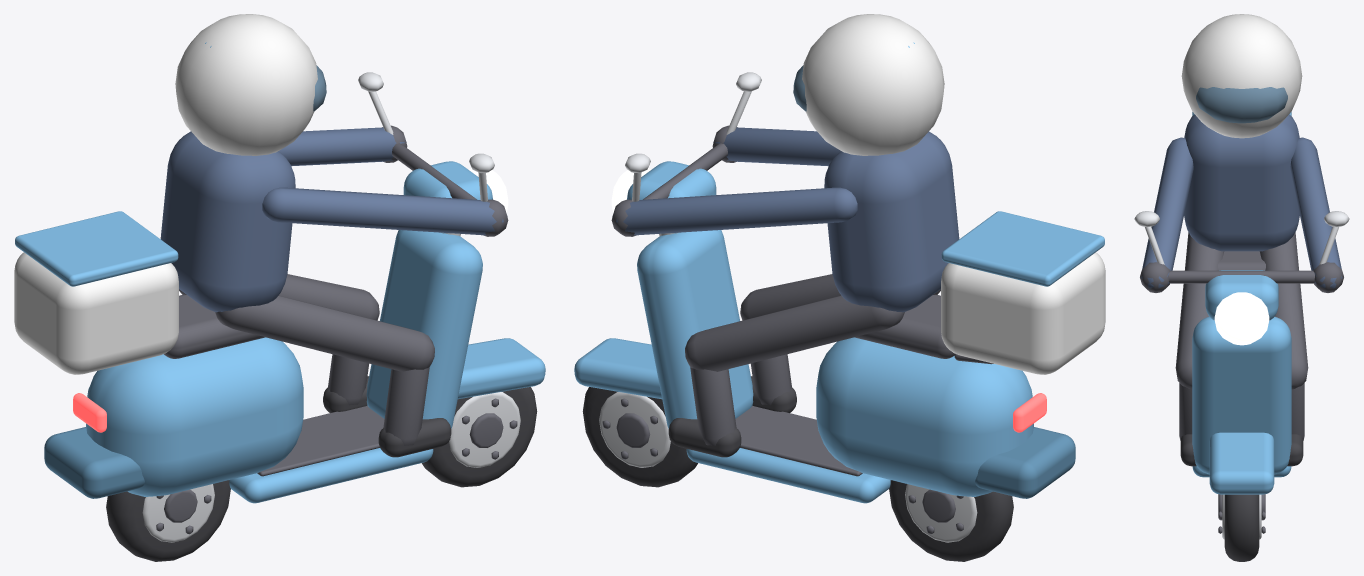
The model's file is vehicle_scooter.glb.
The picture shows the model from 3 angles, left to right: view 1: azimuth 30°, elevation 25°; view 2: azimuth 150°, elevation 25°; view 3: azimuth 270°, elevation 25°; orthographic projection. The views are drawn at different scales.
Parts seen in each view (by area): view 1: vehicle_scooter; view 2: vehicle_scooter; view 3: vehicle_scooter.
Part boxes in pixels (bbox=[...]): vehicle_scooter: bbox=[14, 14, 545, 561]; vehicle_scooter: bbox=[574, 14, 1105, 561]; vehicle_scooter: bbox=[1134, 14, 1349, 561].
Size of the model in its own units: 2.27 by 2.27 by 1.
